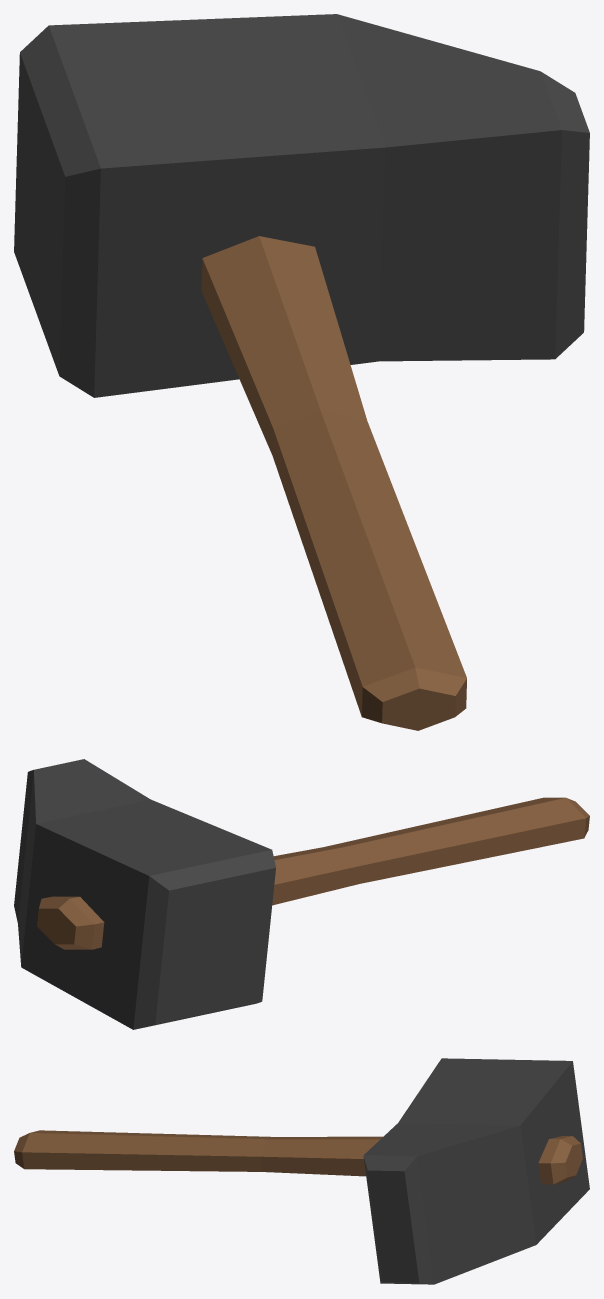
File: hammer.fbx
3 renders of one model, top to bottom at view 1: azimuth 30°, elevation 25°; view 2: azimuth 150°, elevation 25°; view 3: azimuth 270°, elevation 25°, orthographic. The views are drawn at different scales.
Parts seen in each view (by area): view 1: Hammer_02_0.001, Hammer_02_0.010; view 2: Hammer_02_0.001, Hammer_02_0.010; view 3: Hammer_02_0.001, Hammer_02_0.010.
Boxes of the visible parts, <box> form: Hammer_02_0.001: <box>14,14,589,397</box>; Hammer_02_0.010: <box>201,236,466,730</box>; Hammer_02_0.001: <box>14,759,275,1029</box>; Hammer_02_0.010: <box>37,797,589,949</box>; Hammer_02_0.001: <box>363,1058,589,1284</box>; Hammer_02_0.010: <box>14,1130,582,1184</box>.
Size of the model in its own units: 32.57 by 15.27 by 54.82.
